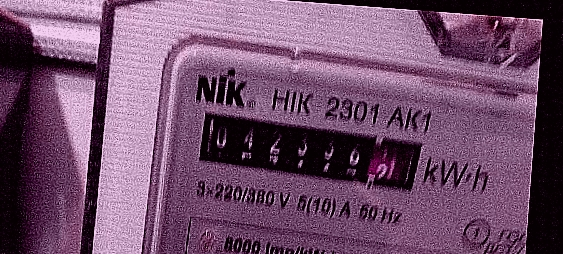0: (213, 120, 228, 150)
2: (265, 126, 285, 154)
3: (292, 128, 310, 158), (321, 131, 337, 160)
4: (239, 123, 257, 151)
6: (345, 139, 362, 167)
screen: (186, 101, 431, 200)
